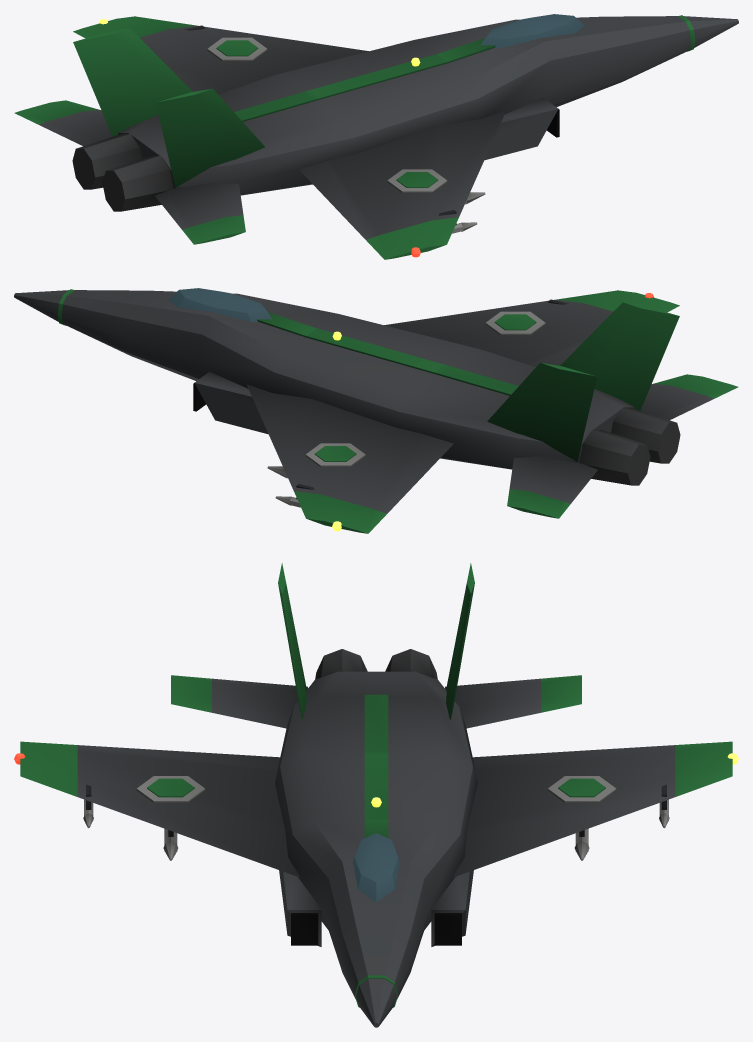
The model's file is u_jet_lod1.glb.
3 views of the same model, one above another, from view 1: azimuth 30°, elevation 25°; view 2: azimuth 150°, elevation 25°; view 3: azimuth 270°, elevation 25° (orthographic). The views are drawn at different scales.
Visible parts, largest first — view 1: Jet_LOD1_Walls, Jet_LOD1_Details; view 2: Jet_LOD1_Walls, Jet_LOD1_Details; view 3: Jet_LOD1_Walls, Jet_LOD1_Details.
Boxes of the visible parts, x1,y1,x2,y2 form: Jet_LOD1_Walls: [14, 16, 738, 259]; Jet_LOD1_Details: [72, 14, 695, 257]; Jet_LOD1_Walls: [14, 290, 738, 533]; Jet_LOD1_Details: [57, 288, 680, 531]; Jet_LOD1_Walls: [20, 563, 732, 1027]; Jet_LOD1_Details: [14, 649, 738, 1007].
Bounding box in the file's own units: 1.23 × 0.2562 × 1.06.
